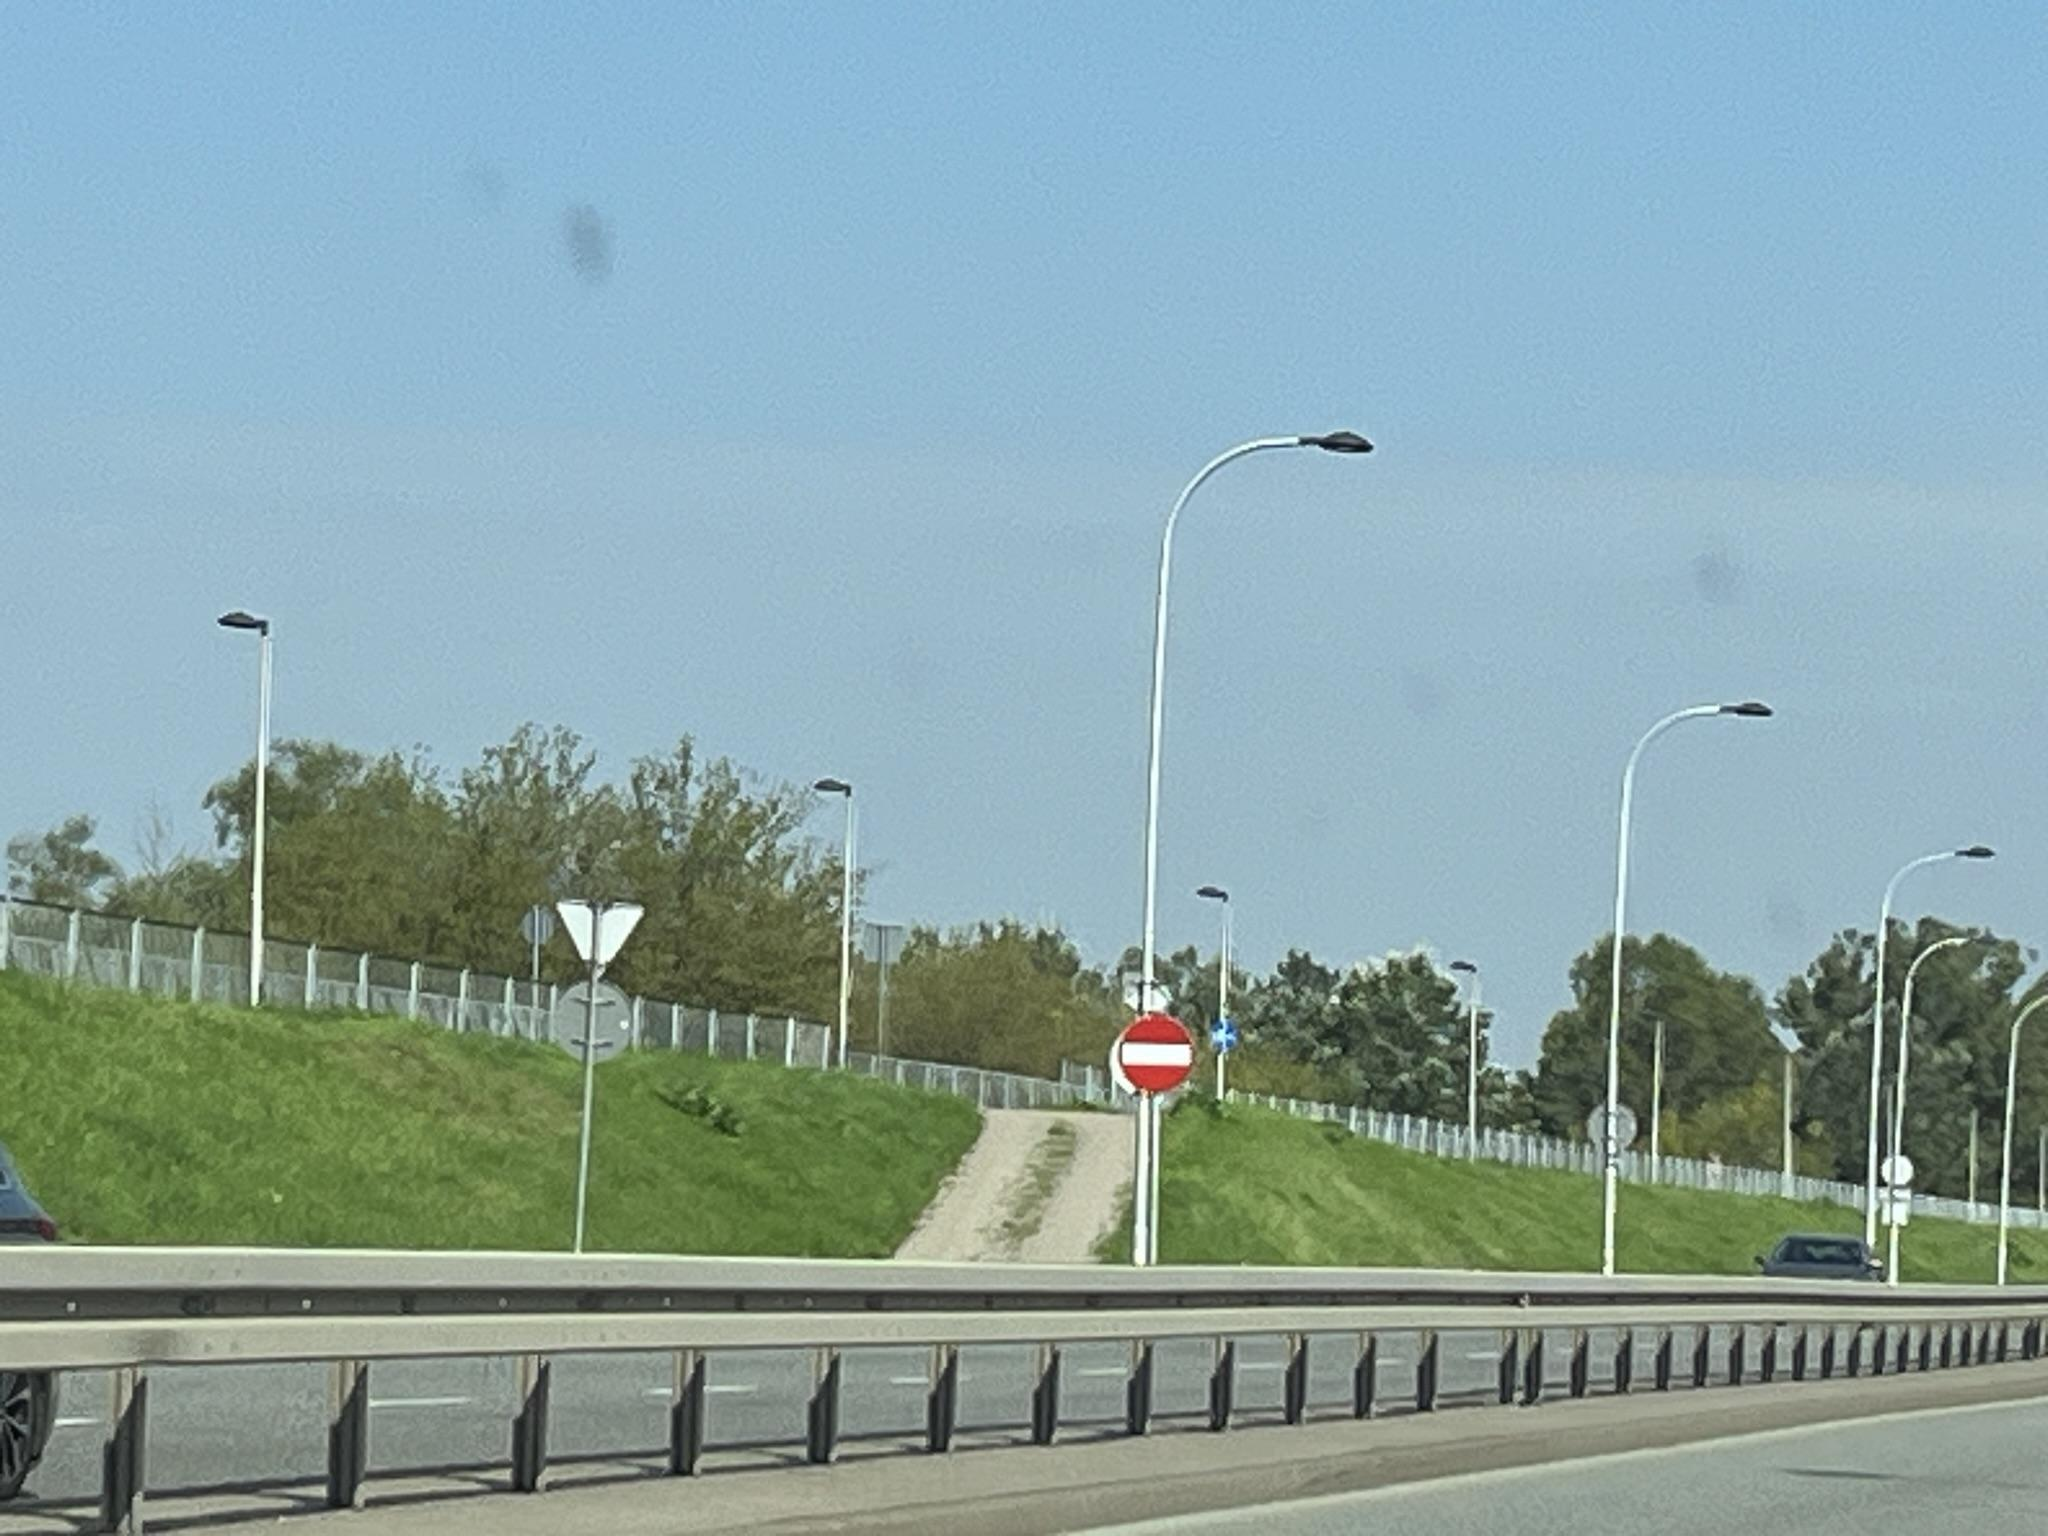prohibitory: (1116, 1015, 1195, 1094)
